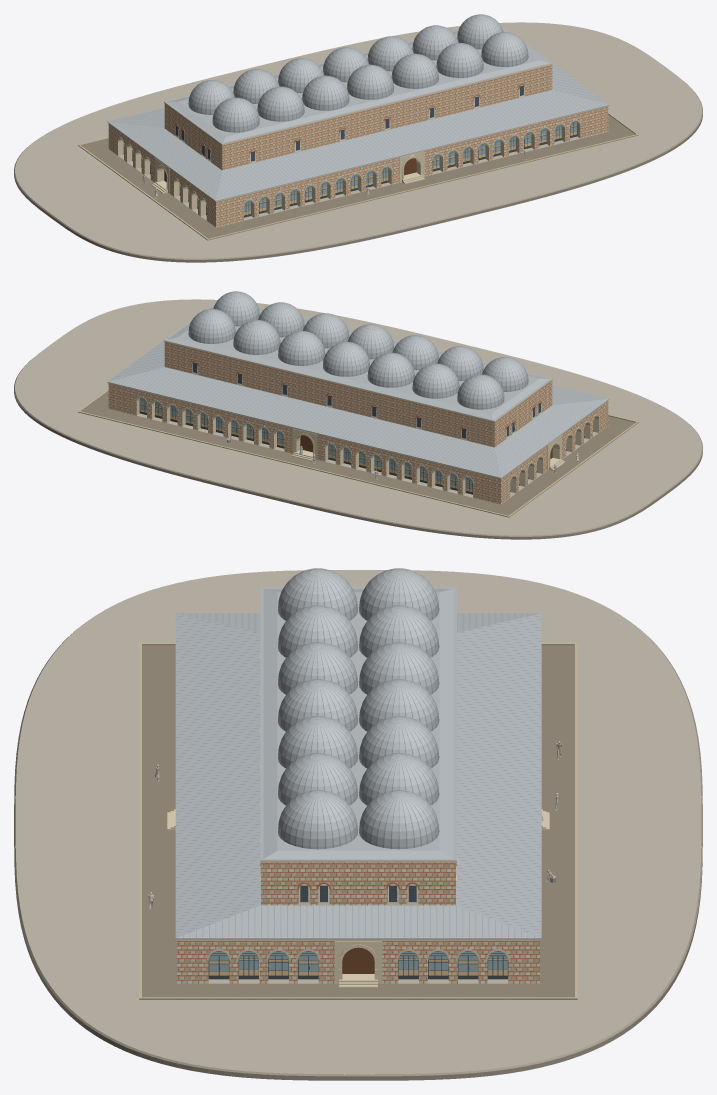
File: bedesten_v10_sunum.glb
3 renders of one model, top to bottom at view 1: azimuth 30°, elevation 25°; view 2: azimuth 150°, elevation 25°; view 3: azimuth 270°, elevation 25°, orthographic. The views are drawn at different scales.
Visible parts, largest first — view 1: Zemin, Dukkanlar, Kubbeler, Govde, Zemin_Serit, Govde_Ortu, Zemin_Bordur, Kapilar; view 2: Zemin, Dukkanlar, Kubbeler, Govde, Zemin_Serit, Govde_Ortu, Zemin_Bordur, Kapilar; view 3: Zemin, Dukkanlar, Kubbeler, Zemin_Serit, Govde_Ortu, Govde, Zemin_Bordur, Kapilar.
Boxes of the visible parts, x1=… form: Zemin: x1=14, y1=22, x2=702, y2=262; Dukkanlar: x1=107, y1=25, x2=609, y2=227; Kubbeler: x1=188, y1=14, x2=528, y2=132; Govde: x1=164, y1=26, x2=552, y2=170; Zemin_Serit: x1=81, y1=114, x2=635, y2=238; Govde_Ortu: x1=167, y1=28, x2=549, y2=142; Zemin_Bordur: x1=78, y1=112, x2=638, y2=240; Kapilar: x1=151, y1=151, x2=424, y2=193; Zemin: x1=14, y1=299, x2=702, y2=539; Dukkanlar: x1=107, y1=302, x2=609, y2=504; Kubbeler: x1=188, y1=291, x2=528, y2=409; Govde: x1=164, y1=303, x2=552, y2=447; Zemin_Serit: x1=81, y1=391, x2=635, y2=515; Govde_Ortu: x1=167, y1=305, x2=549, y2=419; Zemin_Bordur: x1=78, y1=389, x2=638, y2=517; Kapilar: x1=292, y1=428, x2=565, y2=470; Zemin: x1=14, y1=570, x2=702, y2=1080; Dukkanlar: x1=175, y1=587, x2=541, y2=983; Kubbeler: x1=278, y1=568, x2=439, y2=849; Zemin_Serit: x1=140, y1=645, x2=577, y2=999; Govde_Ortu: x1=263, y1=589, x2=453, y2=858; Govde: x1=260, y1=588, x2=456, y2=905; Zemin_Bordur: x1=139, y1=642, x2=577, y2=999; Kapilar: x1=167, y1=809, x2=549, y2=987.
Bounding box in the file's own units: 110 × 14.8 × 63.63.
23 materials, 5 textured.
